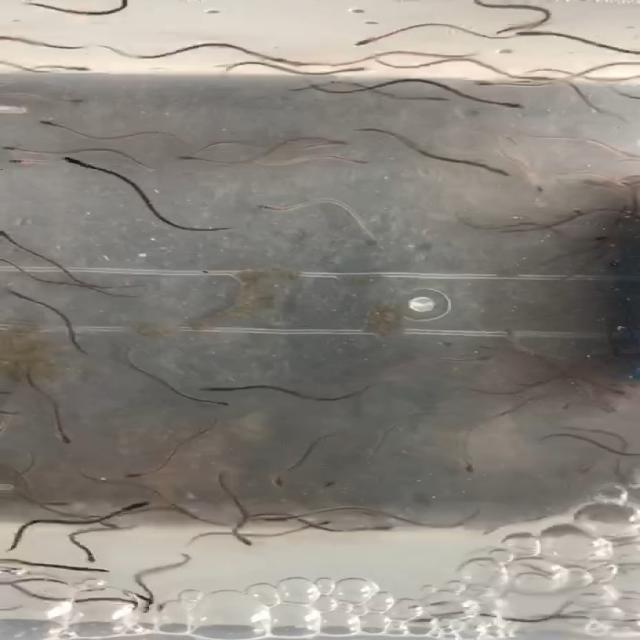active_glass_eel: (469, 84, 517, 113), (109, 489, 153, 512), (0, 223, 33, 252), (322, 34, 381, 50), (52, 58, 90, 80), (55, 151, 90, 174), (70, 548, 108, 569), (196, 392, 235, 411), (505, 28, 551, 44), (482, 165, 520, 184), (223, 530, 258, 550), (321, 127, 352, 149), (449, 458, 483, 477), (27, 117, 70, 132), (174, 150, 214, 166), (300, 516, 338, 532), (269, 473, 300, 492), (0, 141, 39, 156), (2, 154, 38, 170), (336, 62, 376, 76), (334, 155, 371, 170), (46, 427, 74, 446), (116, 468, 154, 482), (251, 509, 288, 523), (252, 200, 282, 217), (198, 383, 235, 394), (0, 284, 32, 296), (316, 478, 342, 492), (136, 590, 156, 608), (0, 255, 19, 273), (529, 177, 550, 193), (58, 43, 93, 51)
